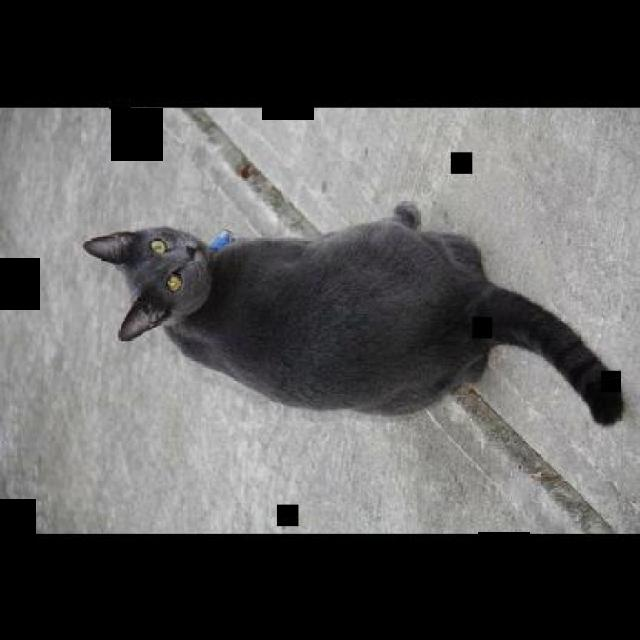unauthorized: (82, 199, 623, 426)
